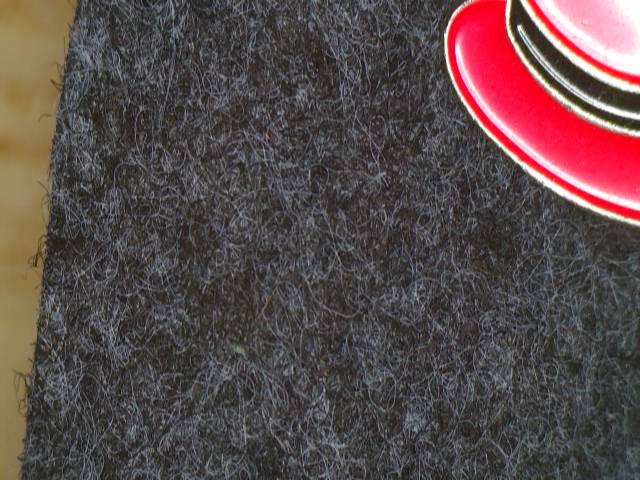Red-Hat: (400, 0, 640, 253)
